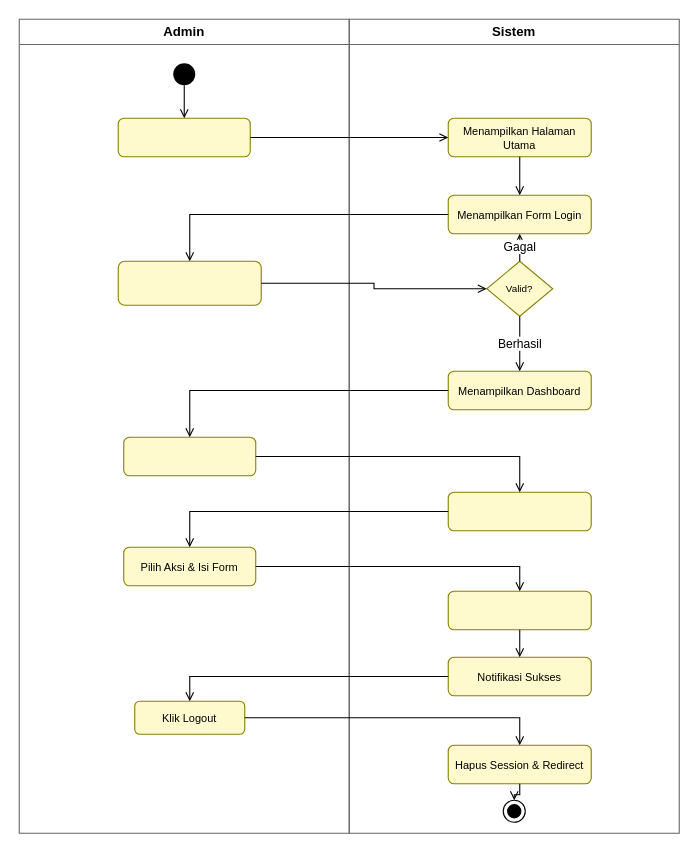
Some shapes in this 699 by 853 pixel diagram are drawn without their labels. Each missing label, with the box of its shape:
Memproses & Simpan DB: (447, 590, 591, 630)
Menampilkan Form Aksi: (447, 491, 591, 531)
Mengakses Website: (117, 117, 250, 157)
Menginputkan Username & Password: (117, 260, 261, 305)
Pilih Menu Manajemen: (123, 436, 256, 476)
